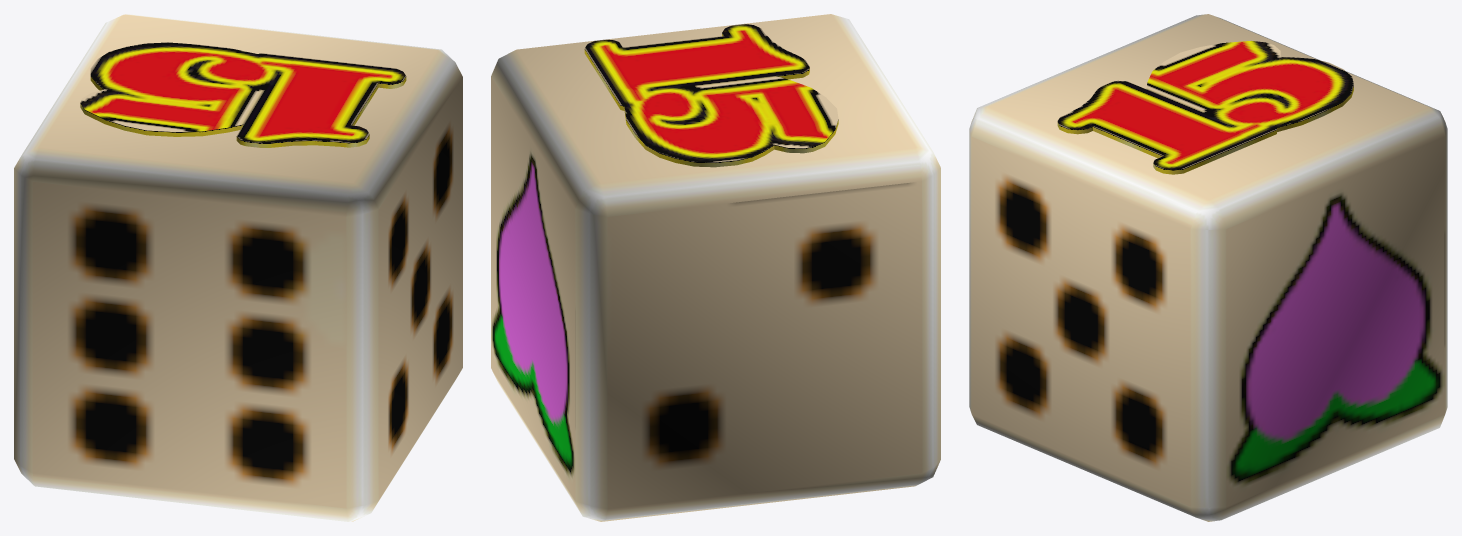
File: sm_00.ico.obj
3 views of the same model, side by side, from view 1: azimuth 30°, elevation 25°; view 2: azimuth 150°, elevation 25°; view 3: azimuth 270°, elevation 25° (orthographic). The views are drawn at different scales.
Bounding box in the file's own units: 3.32 × 2.51 × 3.32.
